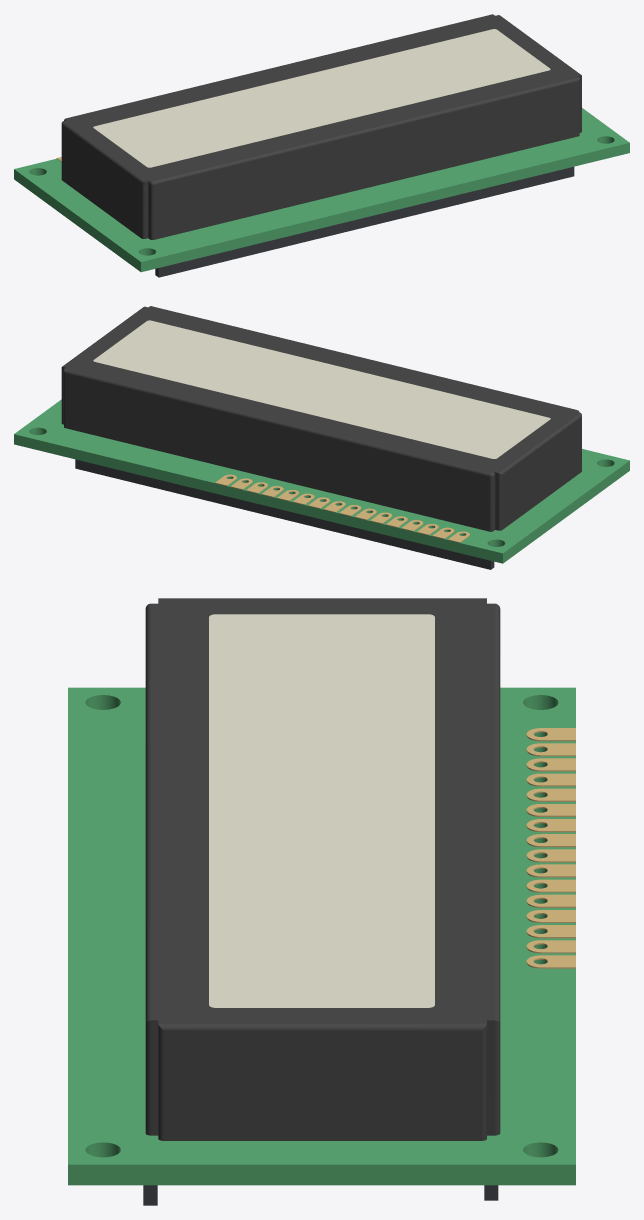
File: lcd-1602.glb
3 views of the same model, one above another, from view 1: azimuth 30°, elevation 25°; view 2: azimuth 150°, elevation 25°; view 3: azimuth 270°, elevation 25° (orthographic). The views are drawn at different scales.
Visible parts, largest first — view 1: lcd-1602; view 2: lcd-1602; view 3: lcd-1602.
Boxes of the visible parts, bbox=[...] form: lcd-1602: bbox=[14, 14, 629, 277]; lcd-1602: bbox=[14, 306, 629, 569]; lcd-1602: bbox=[68, 598, 575, 1205].
Size of the model in its own units: 80 by 15 by 36.
